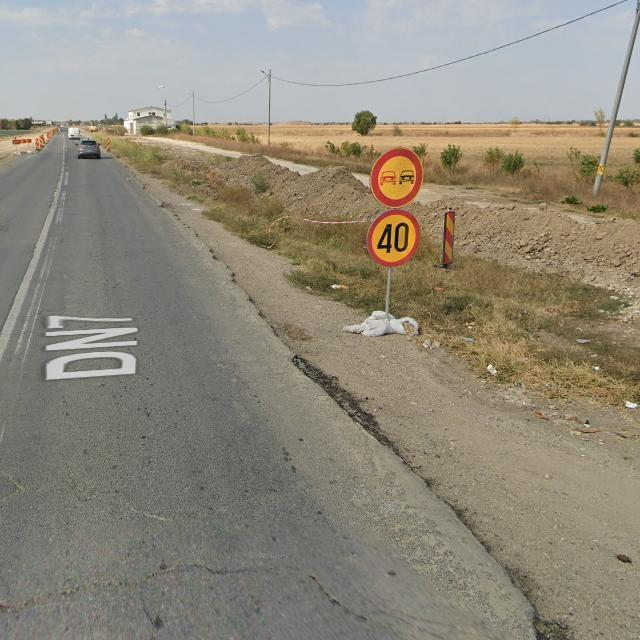forb_overtake: (370, 148, 424, 208)
forb_speed_over_40: (366, 210, 421, 267)
